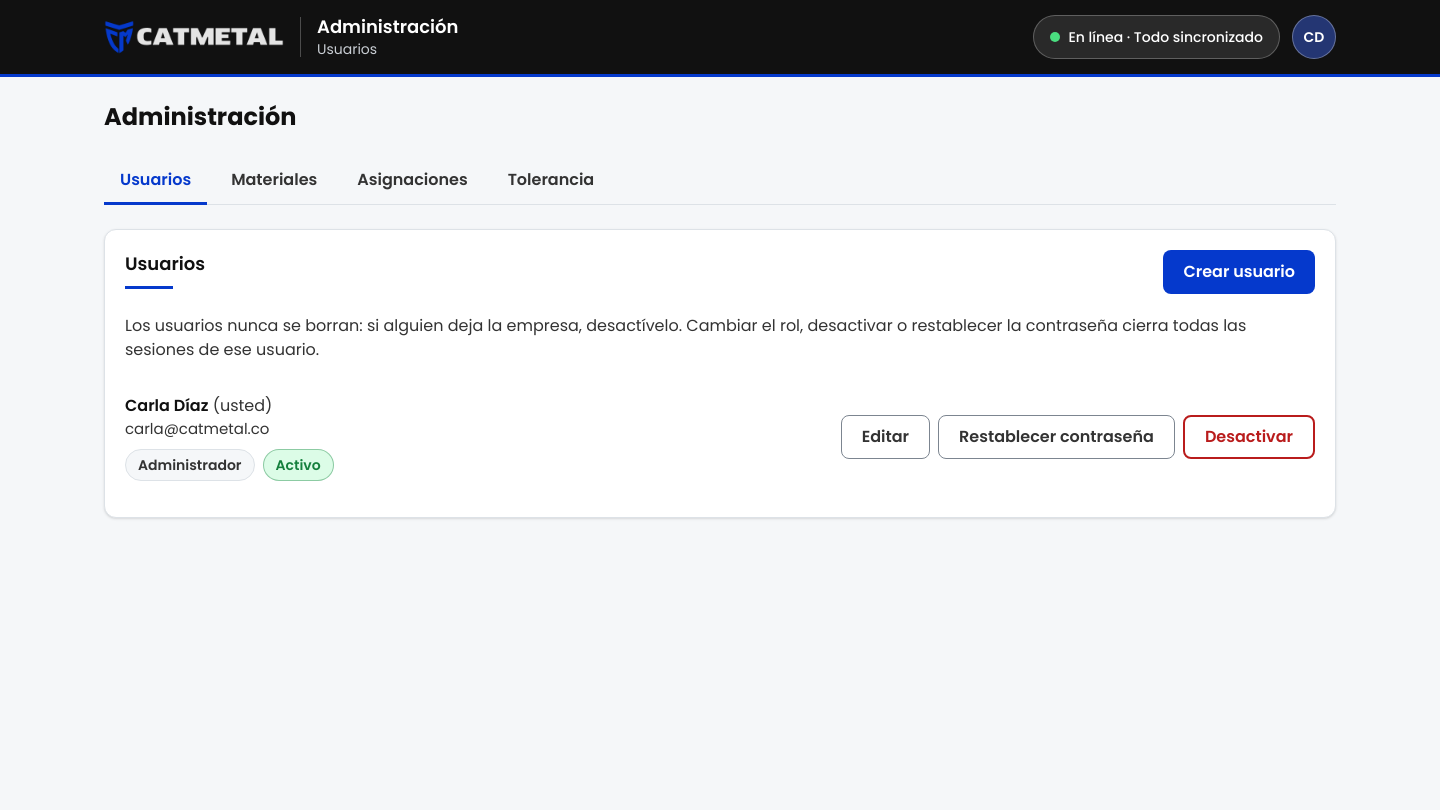
Test: Administración · usuarios › último admin: el servidor lo impide y la pantalla lo explica
The image size is (1440, 810).
Click the button with aria-label "Desactivar a Carla Díaz".
click(1249, 437)  # box [1183,415,1315,459]
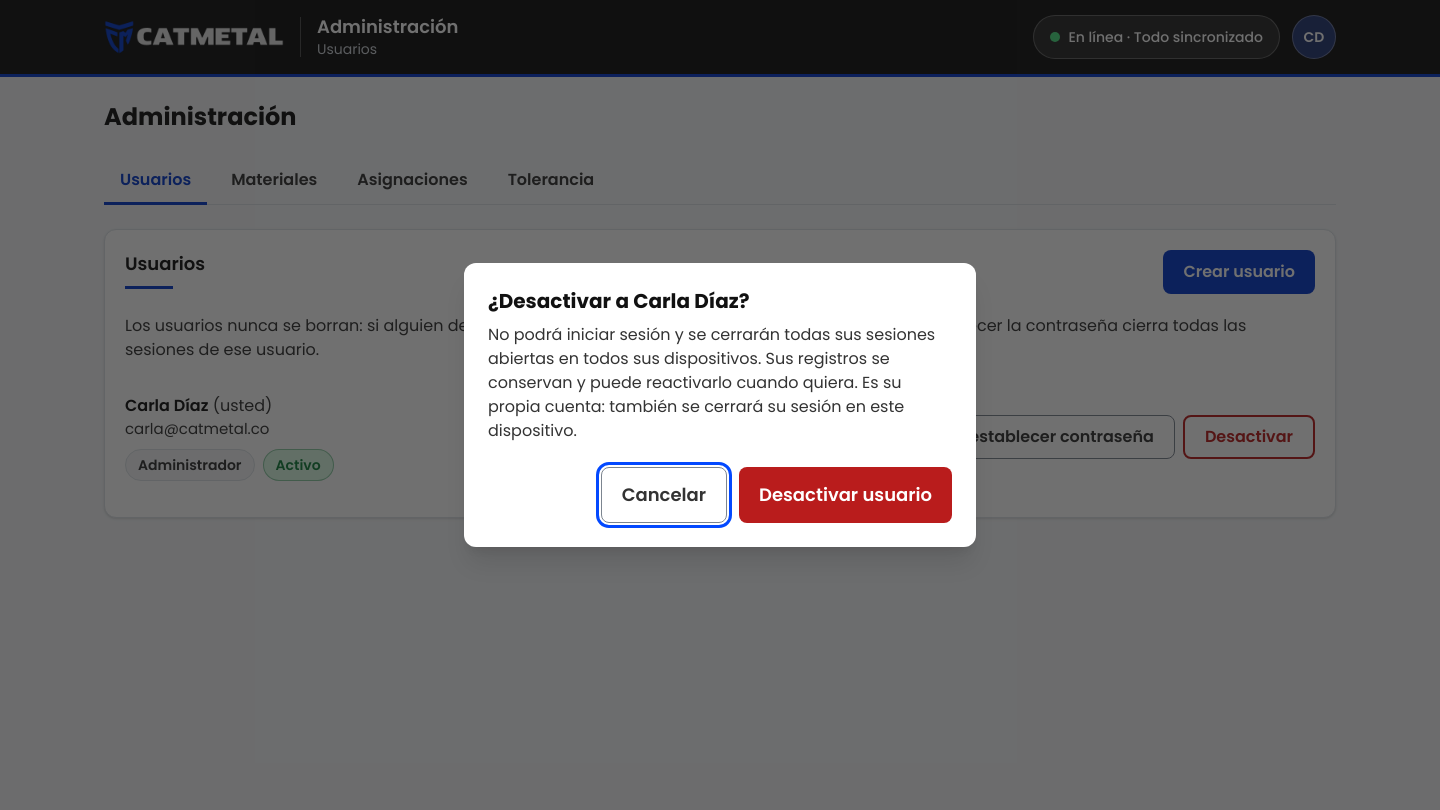
Check: the dialog "¿Desactivar a Carla Díaz?" shows "Es su propia cuenta", box [488,323,935,442]
Click the button "Desactivar usuario".
click(846, 495)  # box [739,467,952,523]
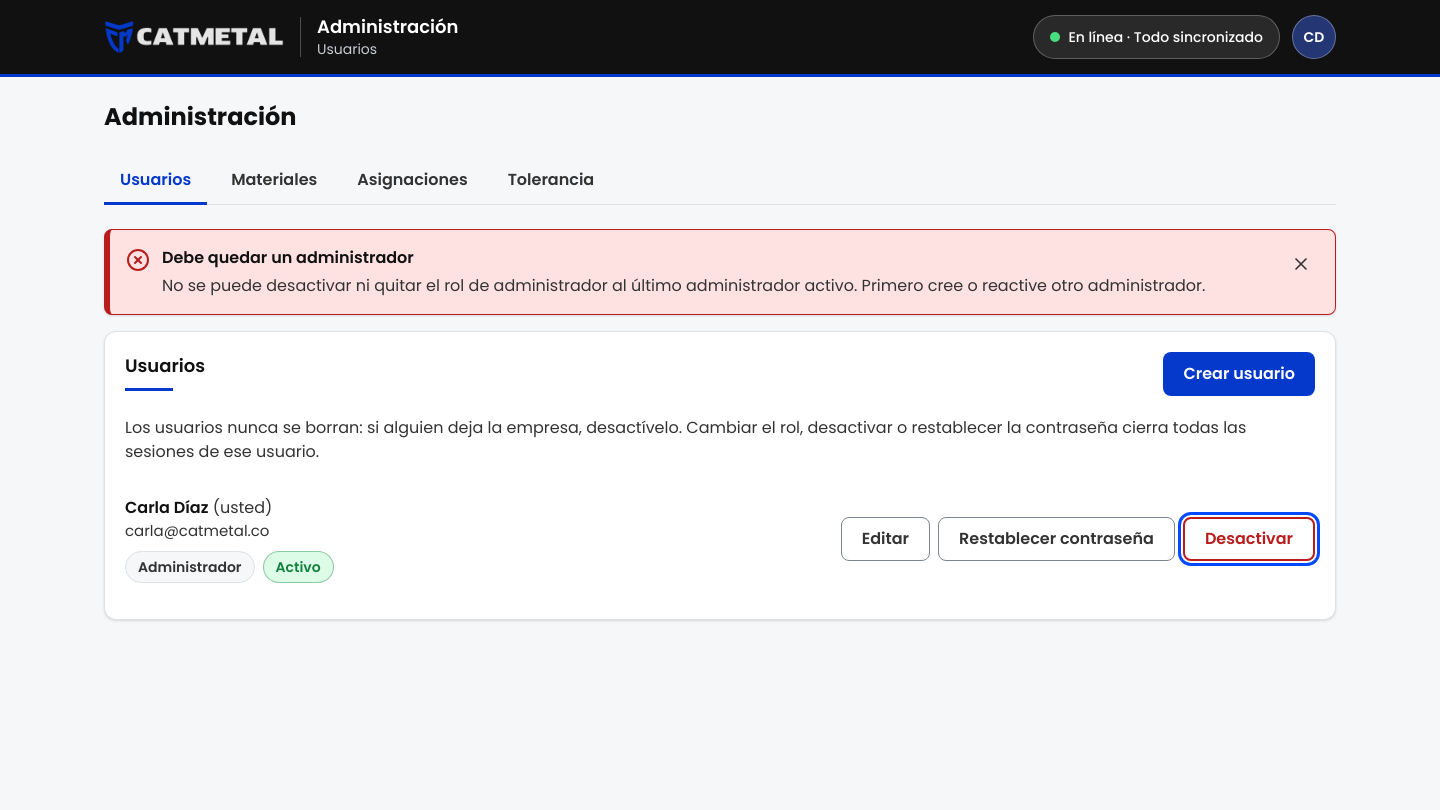
Check: the text "No se puede desactivar ni quitar el rol de administrador al último administrador activo. Primero cree o reactive otro ad" is shown, box [162,274,1205,297]
Click the button with aria-label "Editar a Carla Díaz".
click(885, 539)  # box [841,517,930,561]
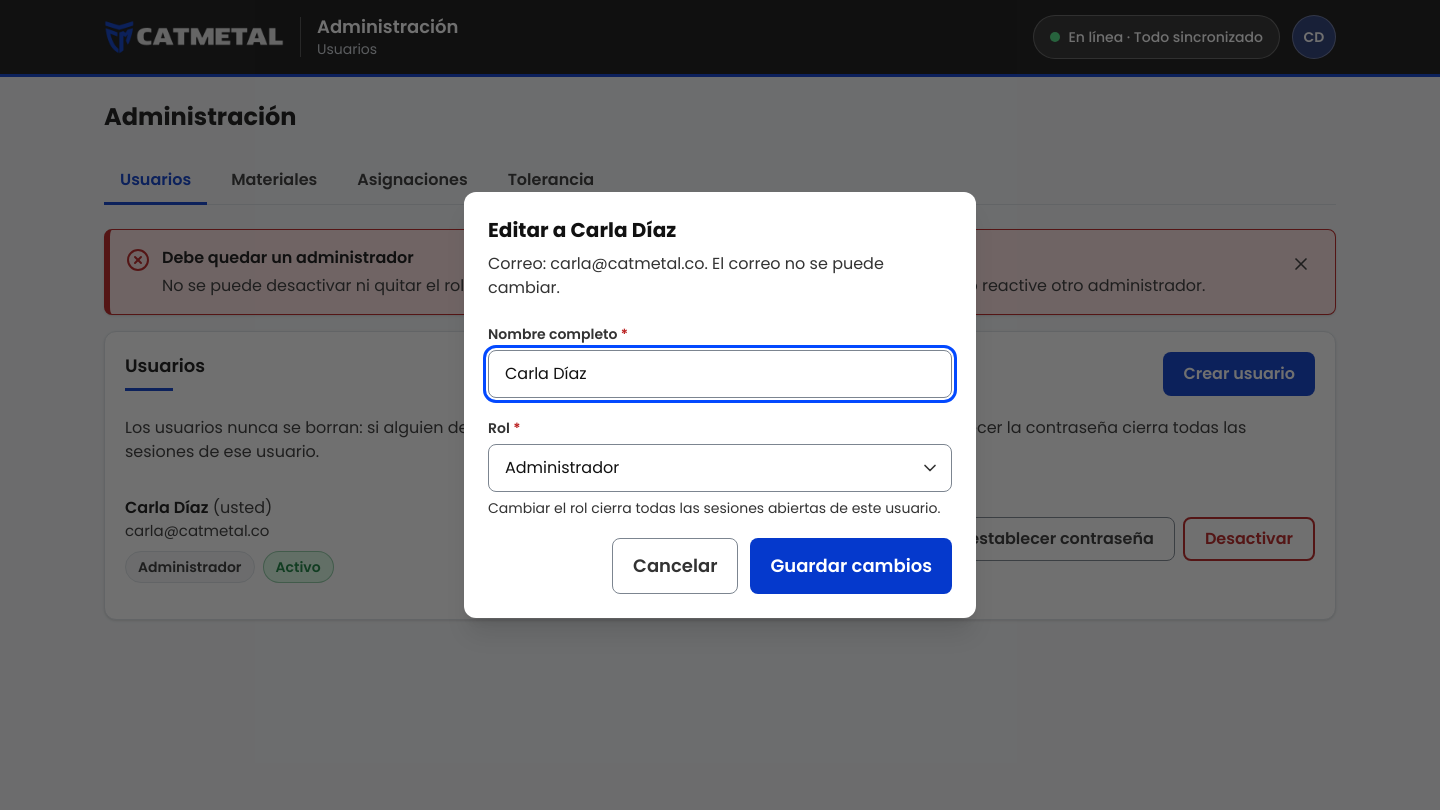
Select "Supervisor" in the dropdown labelled "Rol *" at (720, 468), box [488,444,952,492]
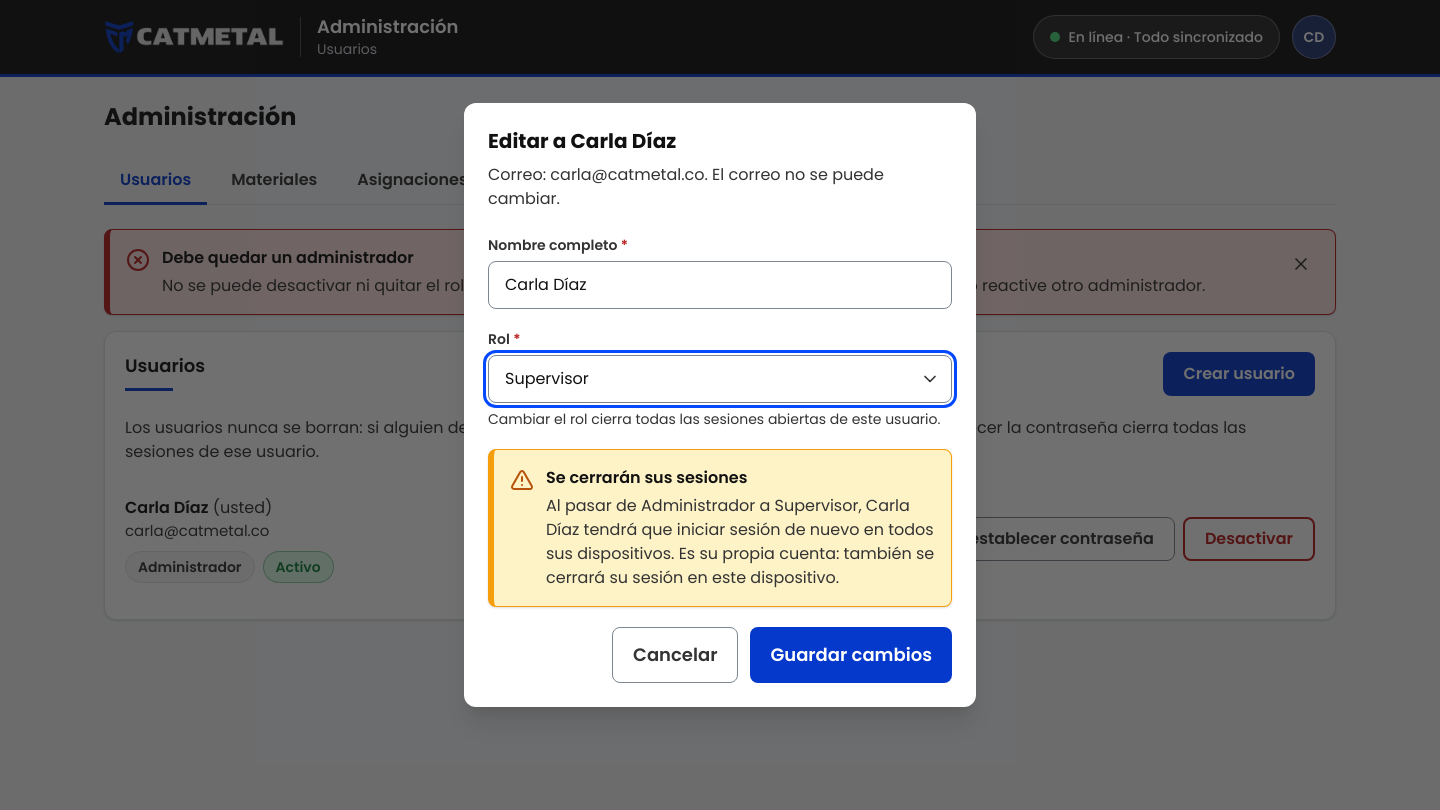
Check: the text "Se cerrarán sus sesiones" is shown, box [545,465,747,489]
Click the button "Guardar cambios".
click(851, 655)  # box [750,627,952,683]
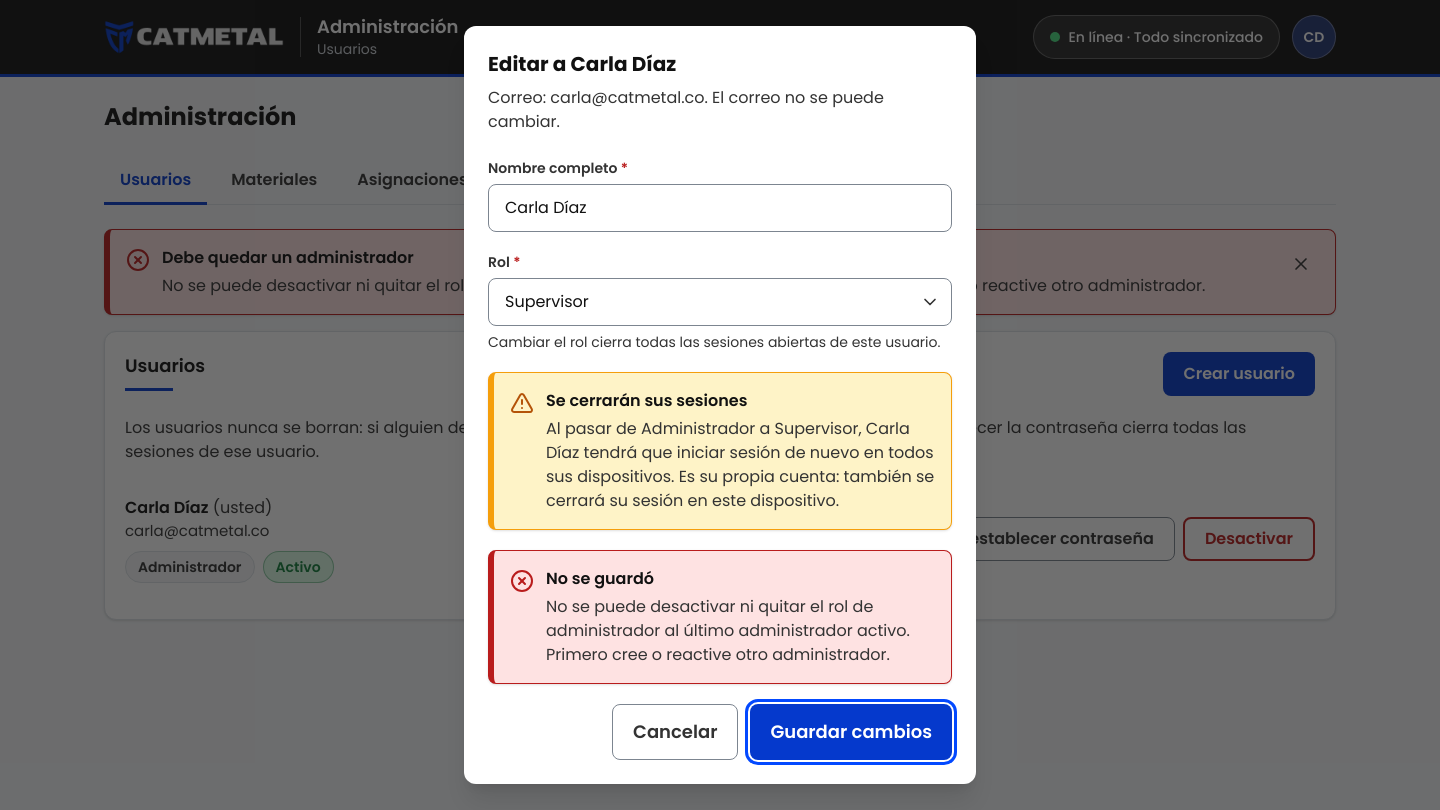
Check: the text "No se puede desactivar ni quitar el rol de administrador al último administrador activo. Primero cree o reactive otro ad" is shown, box [546,595,910,666]
